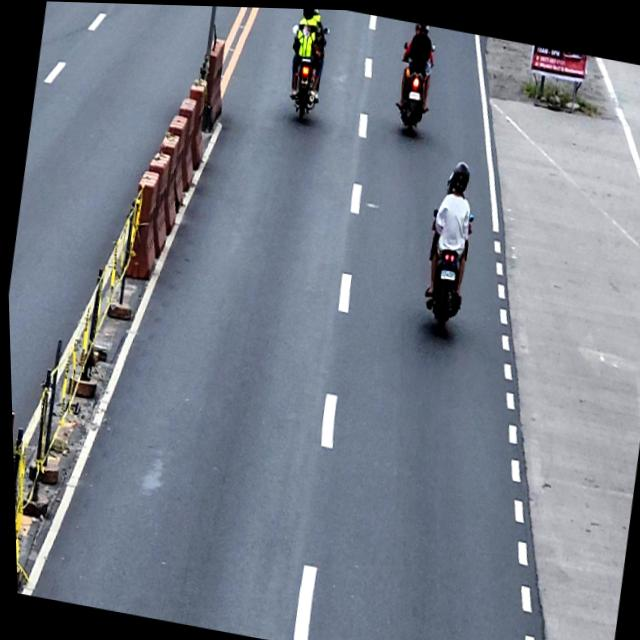License-Plate: (439, 266, 454, 279), (407, 88, 421, 99)
Motorcycle: (413, 203, 476, 337), (278, 17, 332, 124), (389, 36, 438, 136)
